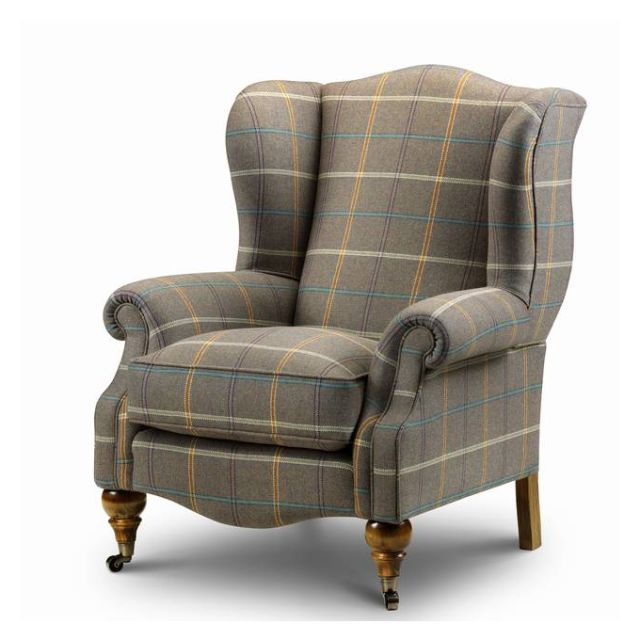chairs: (91, 60, 588, 613)
